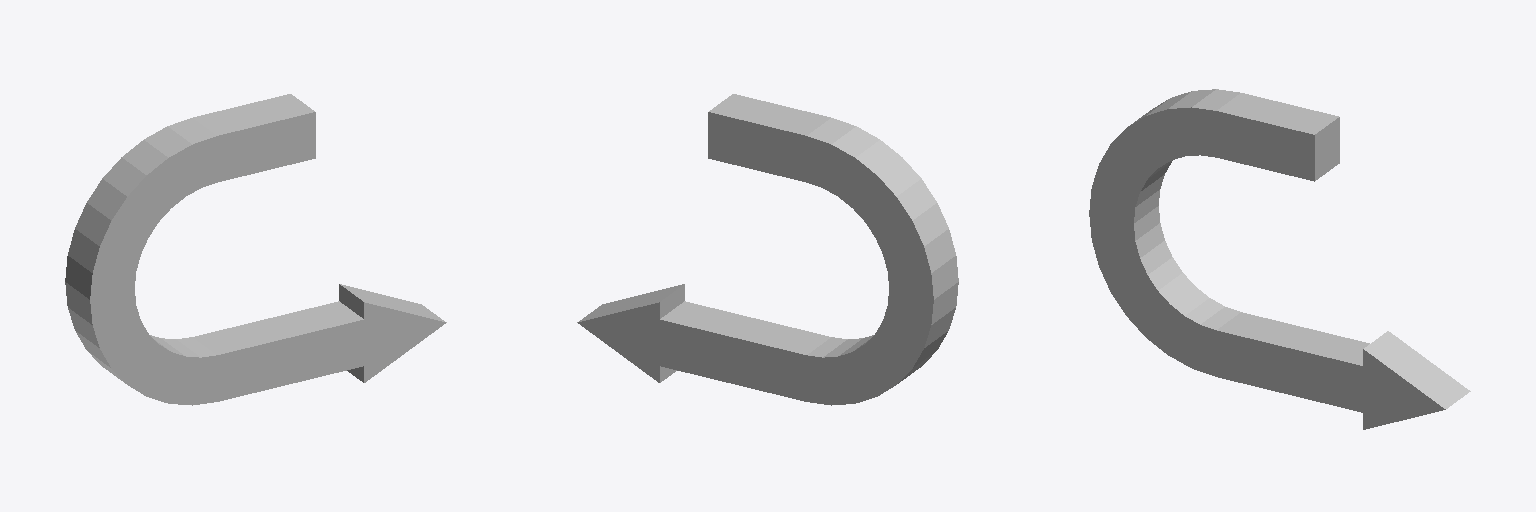
The model's file is Arrow_57.obj.
3 renders of one model, left to right at view 1: azimuth 30°, elevation 25°; view 2: azimuth 150°, elevation 25°; view 3: azimuth 330°, elevation 25°, orthographic.
Visible parts, largest first — view 1: Arrow_57; view 2: Arrow_57; view 3: Arrow_57.
Boxes of the visible parts, x1=… form: Arrow_57: x1=65, y1=94, x2=446, y2=405; Arrow_57: x1=577, y1=94, x2=958, y2=405; Arrow_57: x1=1089, y1=89, x2=1470, y2=429.
Bounding box in the file's own units: 4.32 × 3.28 × 0.5244.